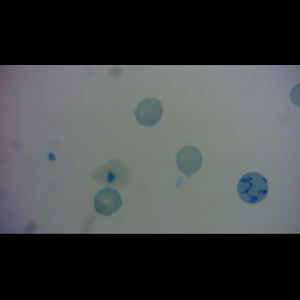aggregate reticulocyte: (235, 170, 271, 205)
erythrocyte: (174, 145, 204, 180), (133, 97, 164, 127)
punctate reticulocyte: (92, 185, 124, 218)
